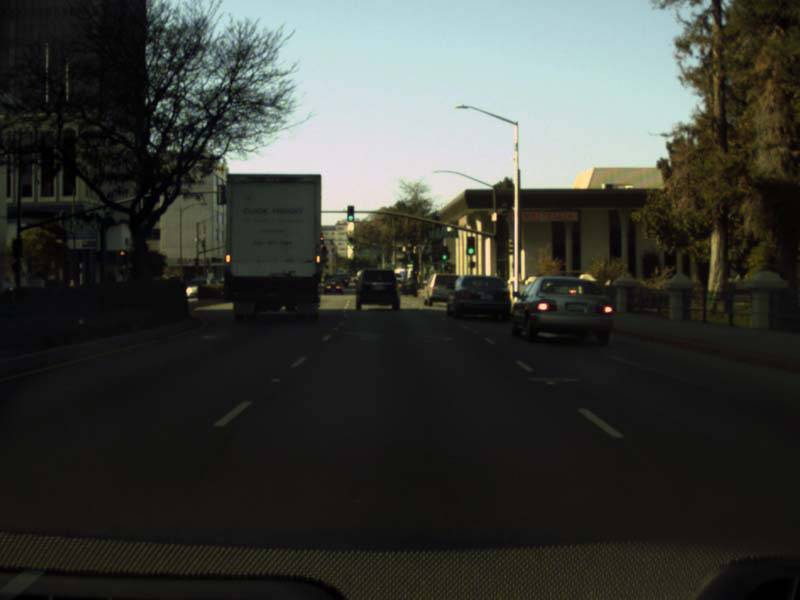Green: (466, 237, 474, 255), (440, 245, 447, 260), (347, 205, 353, 221), (409, 252, 413, 263), (348, 237, 352, 245)
Red: (119, 249, 127, 264), (319, 236, 323, 244)
